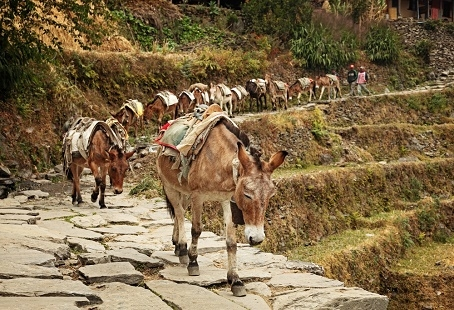equine: (138, 105, 299, 297), (56, 108, 140, 213), (138, 87, 179, 127), (110, 98, 147, 141), (175, 81, 214, 117), (205, 78, 237, 115), (283, 75, 321, 106), (307, 70, 341, 103), (240, 78, 271, 108)
human: (354, 62, 374, 96), (343, 61, 360, 97)
